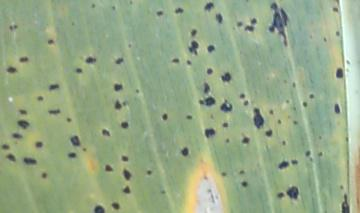tarspot: (267, 3, 288, 47), (251, 106, 265, 129), (286, 186, 300, 201), (219, 98, 233, 112), (188, 40, 199, 57), (341, 193, 350, 213), (121, 168, 133, 182), (113, 96, 123, 111), (70, 134, 81, 147), (332, 101, 341, 116), (335, 66, 344, 80), (206, 96, 217, 107), (17, 119, 29, 129), (204, 128, 216, 138), (84, 55, 97, 64), (215, 11, 224, 24), (6, 152, 16, 163), (48, 82, 59, 92), (180, 146, 190, 157), (204, 2, 214, 13), (240, 135, 250, 146), (244, 23, 255, 33), (22, 157, 37, 164), (113, 82, 123, 92), (330, 4, 340, 14), (276, 190, 286, 200), (221, 73, 232, 82), (47, 108, 61, 115), (203, 80, 210, 94), (18, 54, 28, 63), (120, 120, 129, 130), (170, 56, 180, 65), (206, 44, 215, 54), (265, 128, 274, 138), (6, 66, 17, 74), (12, 132, 23, 140), (94, 205, 105, 213), (103, 164, 114, 172), (114, 57, 125, 65), (189, 27, 197, 38), (278, 162, 290, 169), (111, 202, 120, 211), (1, 143, 11, 151), (102, 127, 110, 137), (161, 113, 169, 123), (174, 6, 184, 14), (40, 171, 49, 179), (122, 186, 131, 194), (122, 98, 131, 106), (155, 9, 164, 17), (205, 66, 213, 75), (197, 98, 206, 106), (221, 120, 229, 129), (18, 108, 28, 115), (250, 16, 257, 26), (290, 79, 297, 89), (121, 154, 129, 162), (75, 66, 83, 74), (109, 3, 117, 11), (145, 168, 153, 176), (185, 58, 193, 66), (240, 180, 248, 188), (47, 37, 54, 46), (37, 93, 44, 102), (303, 150, 312, 157), (67, 152, 77, 158), (8, 24, 15, 32), (35, 141, 43, 148), (133, 86, 140, 94), (308, 92, 315, 100), (224, 136, 230, 145), (235, 21, 244, 27), (81, 145, 88, 152), (69, 20, 76, 27), (160, 189, 167, 196), (238, 169, 245, 176), (243, 100, 250, 107), (338, 183, 345, 190), (291, 158, 298, 165), (268, 108, 275, 115), (292, 119, 299, 126), (66, 116, 72, 124), (185, 114, 193, 120), (219, 171, 227, 177), (238, 93, 246, 99), (322, 35, 328, 43), (302, 100, 308, 108), (317, 150, 323, 158), (90, 3, 97, 9), (208, 113, 215, 119), (335, 30, 341, 37), (281, 139, 287, 146), (292, 105, 298, 112), (13, 23, 18, 30), (277, 118, 282, 125), (127, 1, 135, 5), (128, 42, 133, 48), (285, 99, 290, 105), (317, 136, 323, 141)
